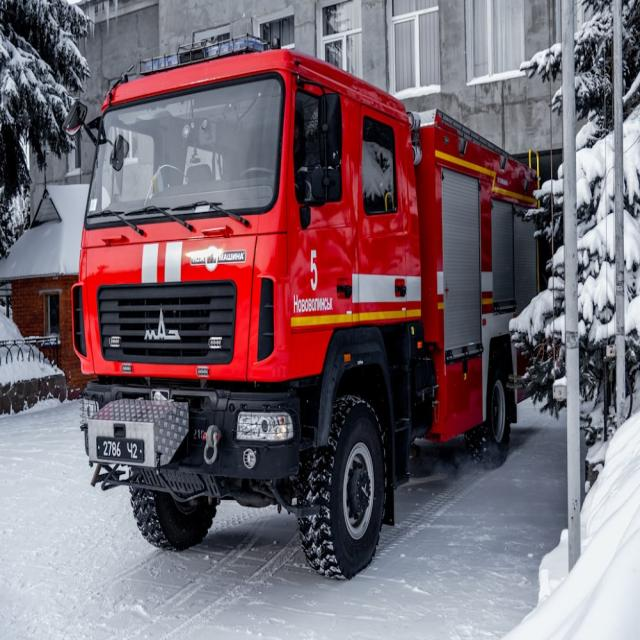emergency: (71, 36, 538, 577)
